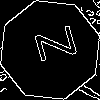Z: (25, 25, 77, 67)
